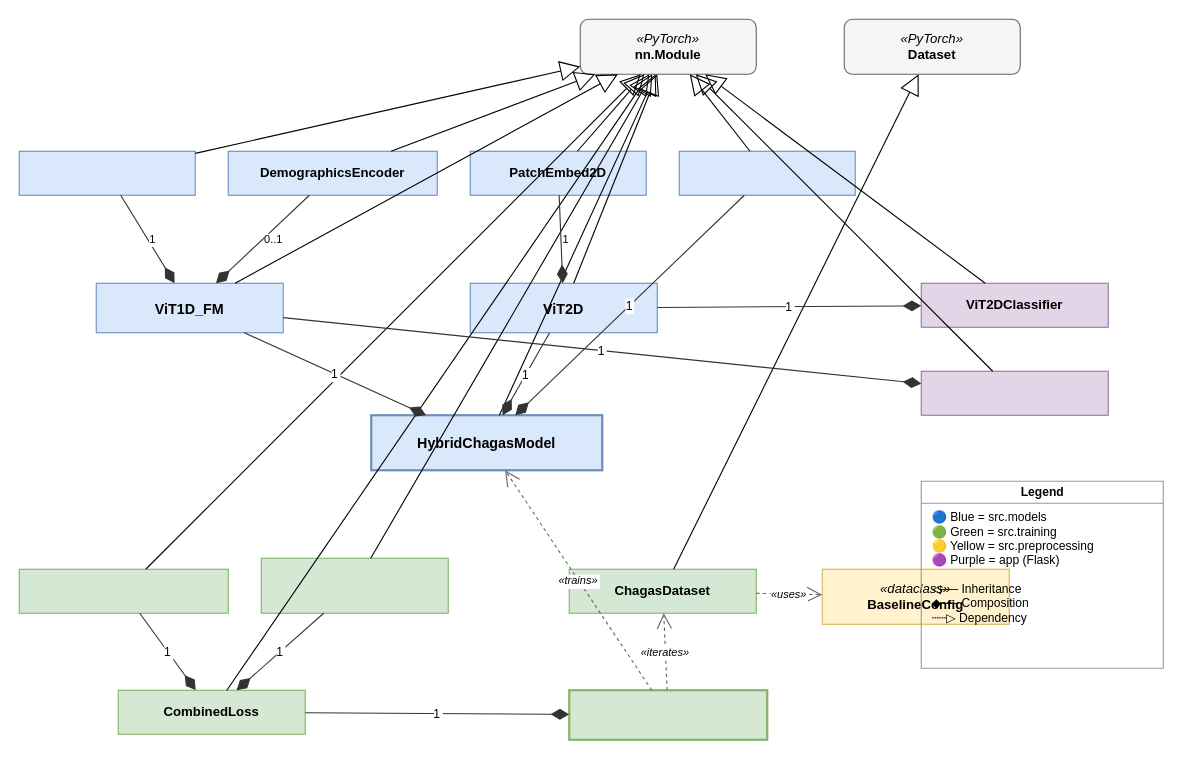
The diagram is 1183 pixels wide and 760 high, and some of its shapes have lost their labels. Here are the shapes that lost their labels. From the top down, the box of each, then its label:
(18, 150, 195, 195): PatchEmbed1D
(678, 150, 855, 195): REPAAlignment
(920, 370, 1108, 415): ViT1DClassifier
(18, 568, 228, 613): AsymmetricBCELoss
(260, 557, 448, 613): CosineSimilarity AlignmentLoss
(568, 689, 768, 740): ChagasTrainer
